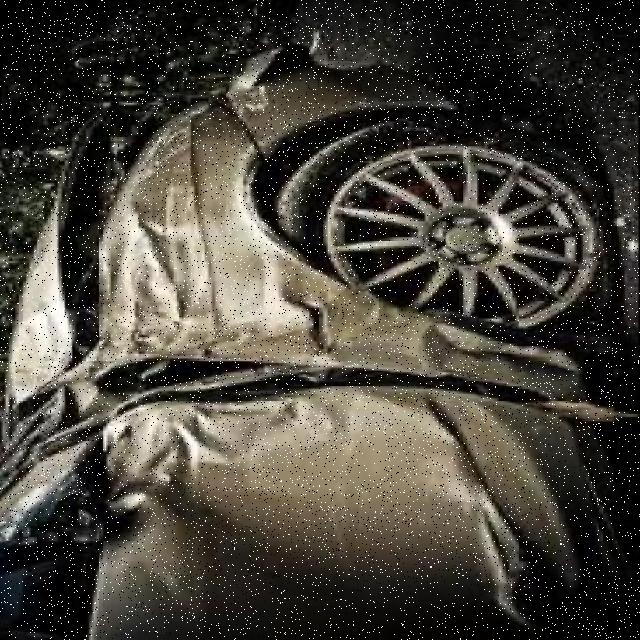damage: (6, 81, 609, 623)
